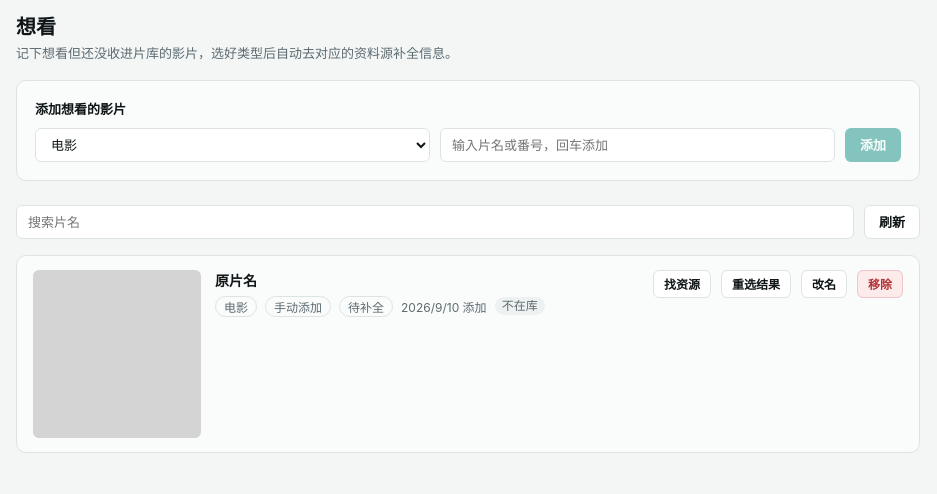
Test: 想看片单 › 按 ID 改名，取消编辑不写入，修改失败保留输入
Click the button "改名": (824, 284) [801,270,847,298]
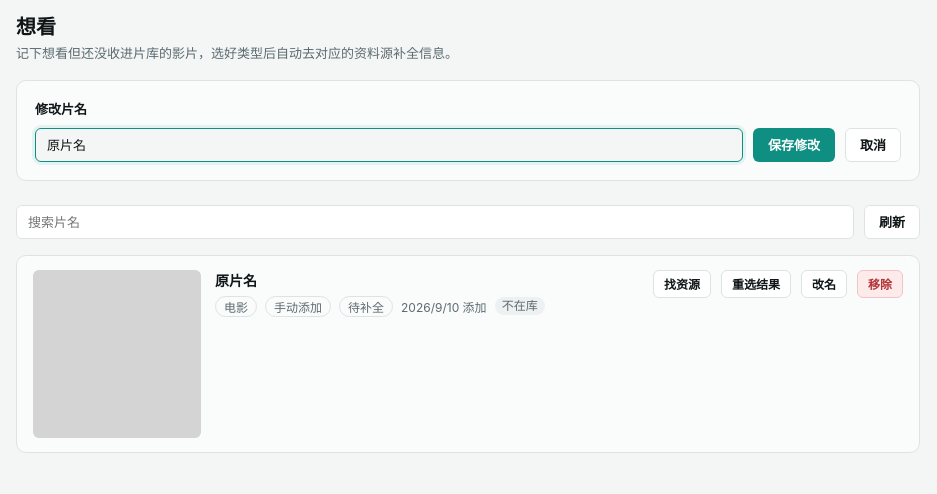
Click the button "取消": (873, 144) [845,128,901,162]
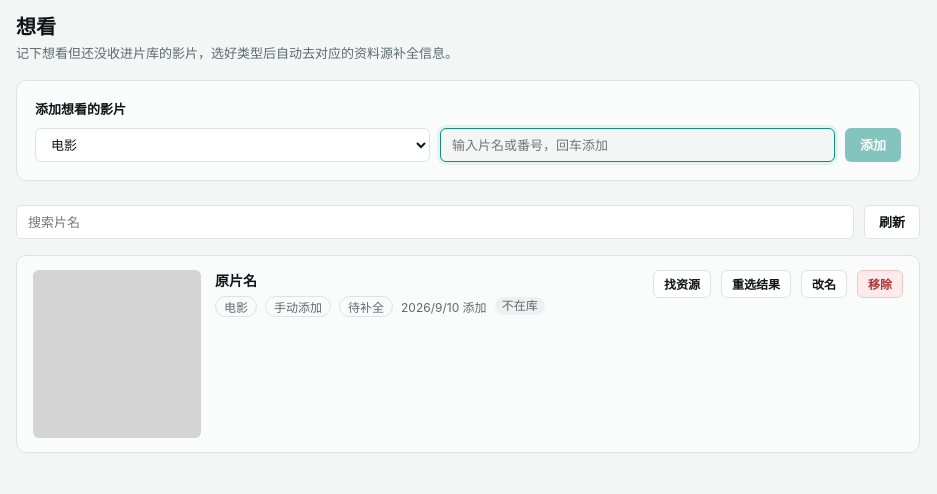
Click the button "改名": (824, 284) [801,270,847,298]
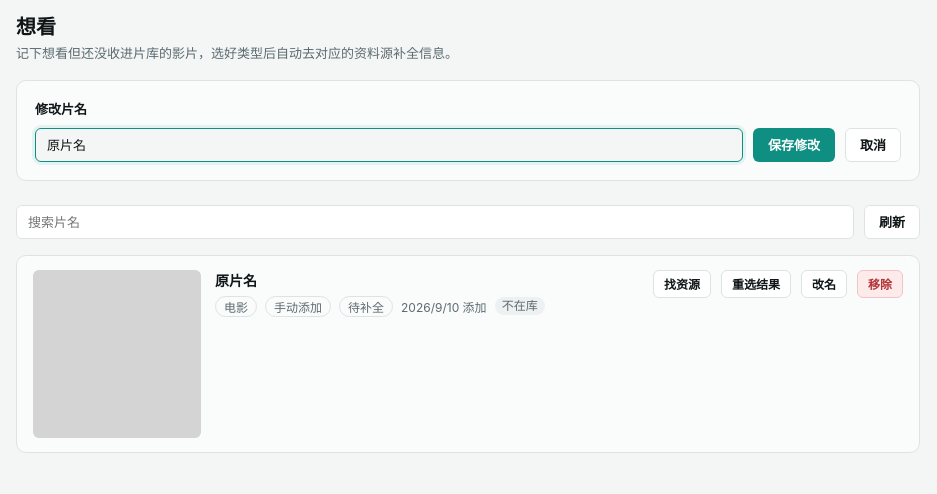
Replace the text in the field labelled "修改片名" with "改后的片名": (389, 144) [35,128,743,162]
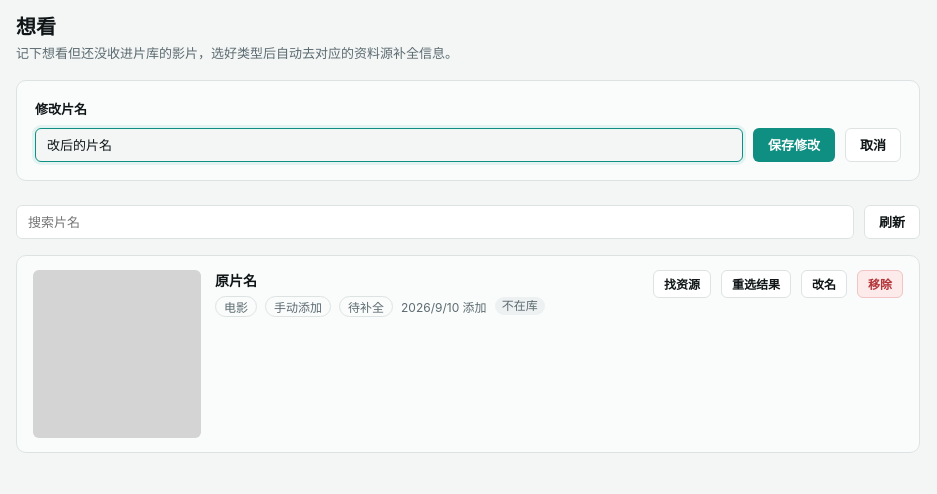
Submit the form with test id "watchlist-form", box [16,80,920,180]
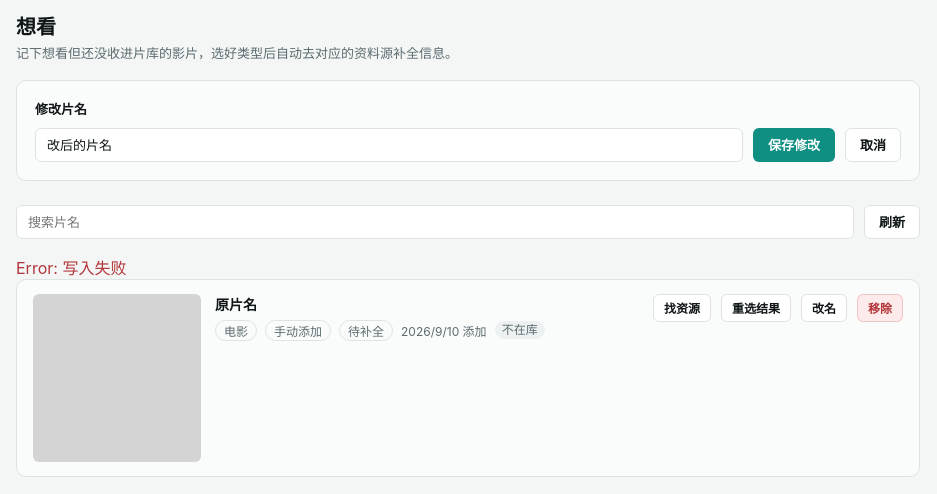
Submit the form with test id "watchlist-form", box [16,80,920,180]
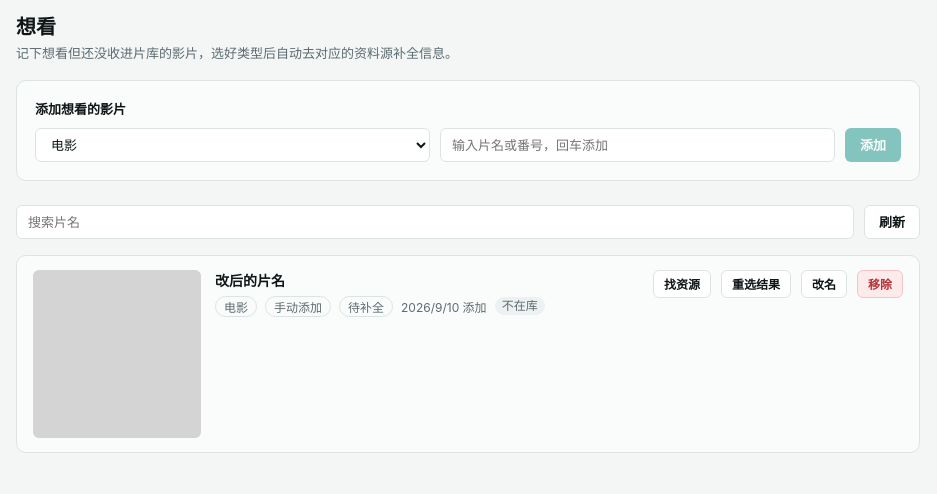
Result: the list item with test id "watchlist-entry" shows "改后的片名" at [215,272,285,288]
